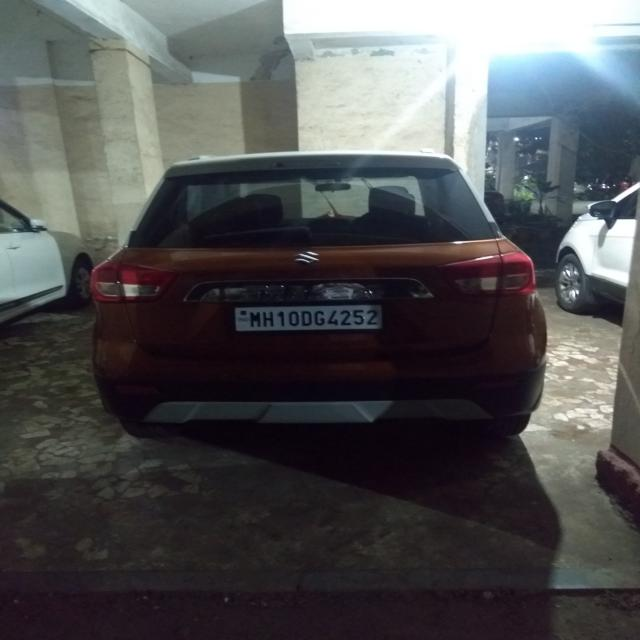Number-Plate: (239, 303, 381, 332)
